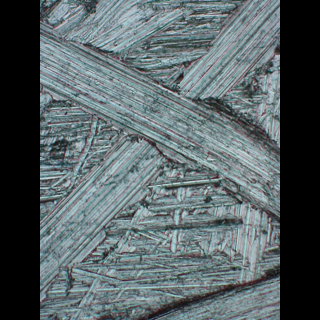d: (40, 0, 280, 304)
